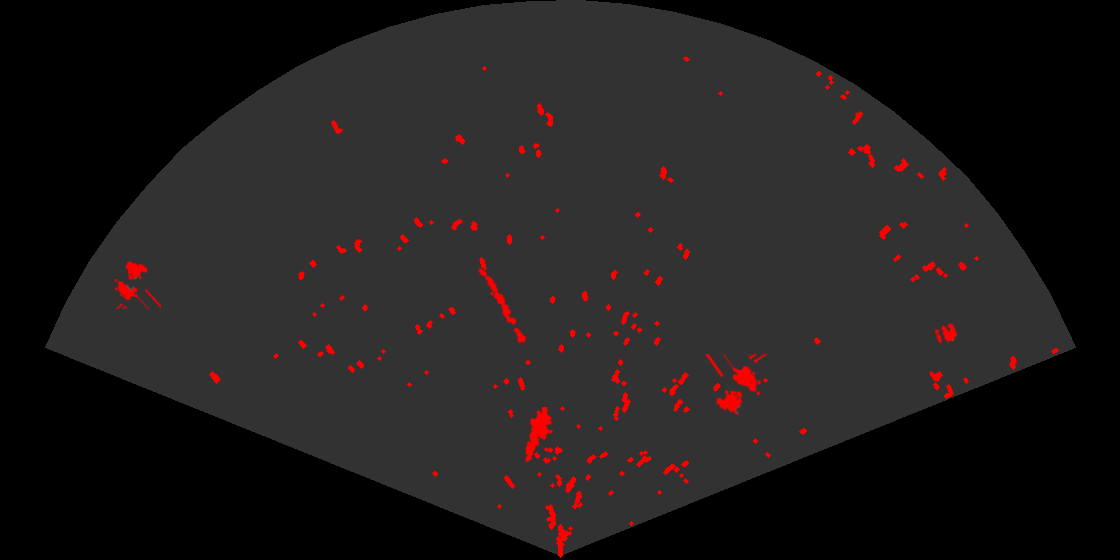ball: (933, 322, 959, 345)
cage: (703, 354, 769, 417), (112, 260, 161, 309)
chain: (476, 266, 529, 347)
frogman: (524, 407, 555, 462)
